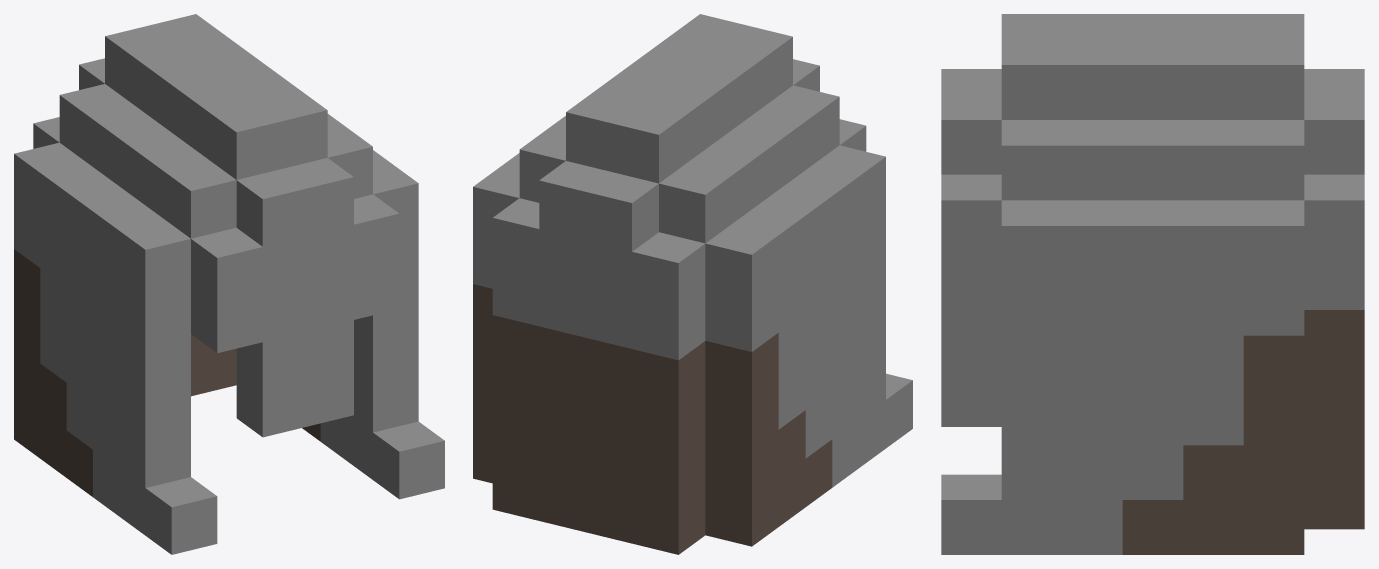
The model's file is char-93-helm_hvy_1a_du.obj.
3 views of the same model, side by side, from view 1: azimuth 30°, elevation 25°; view 2: azimuth 150°, elevation 25°; view 3: azimuth 270°, elevation 25° (orthographic). The views are drawn at different scales.
Parts seen in each view (by area): view 1: helm_hvy_1a_du; view 2: helm_hvy_1a_du; view 3: helm_hvy_1a_du.
Boxes of the visible parts, x1=… form: helm_hvy_1a_du: x1=14, y1=14, x2=444, y2=554; helm_hvy_1a_du: x1=473, y1=14, x2=912, y2=554; helm_hvy_1a_du: x1=941, y1=14, x2=1364, y2=554.
Size of the model in its own units: 0.6 by 0.8 by 0.7.
1 material, 1 textured.
